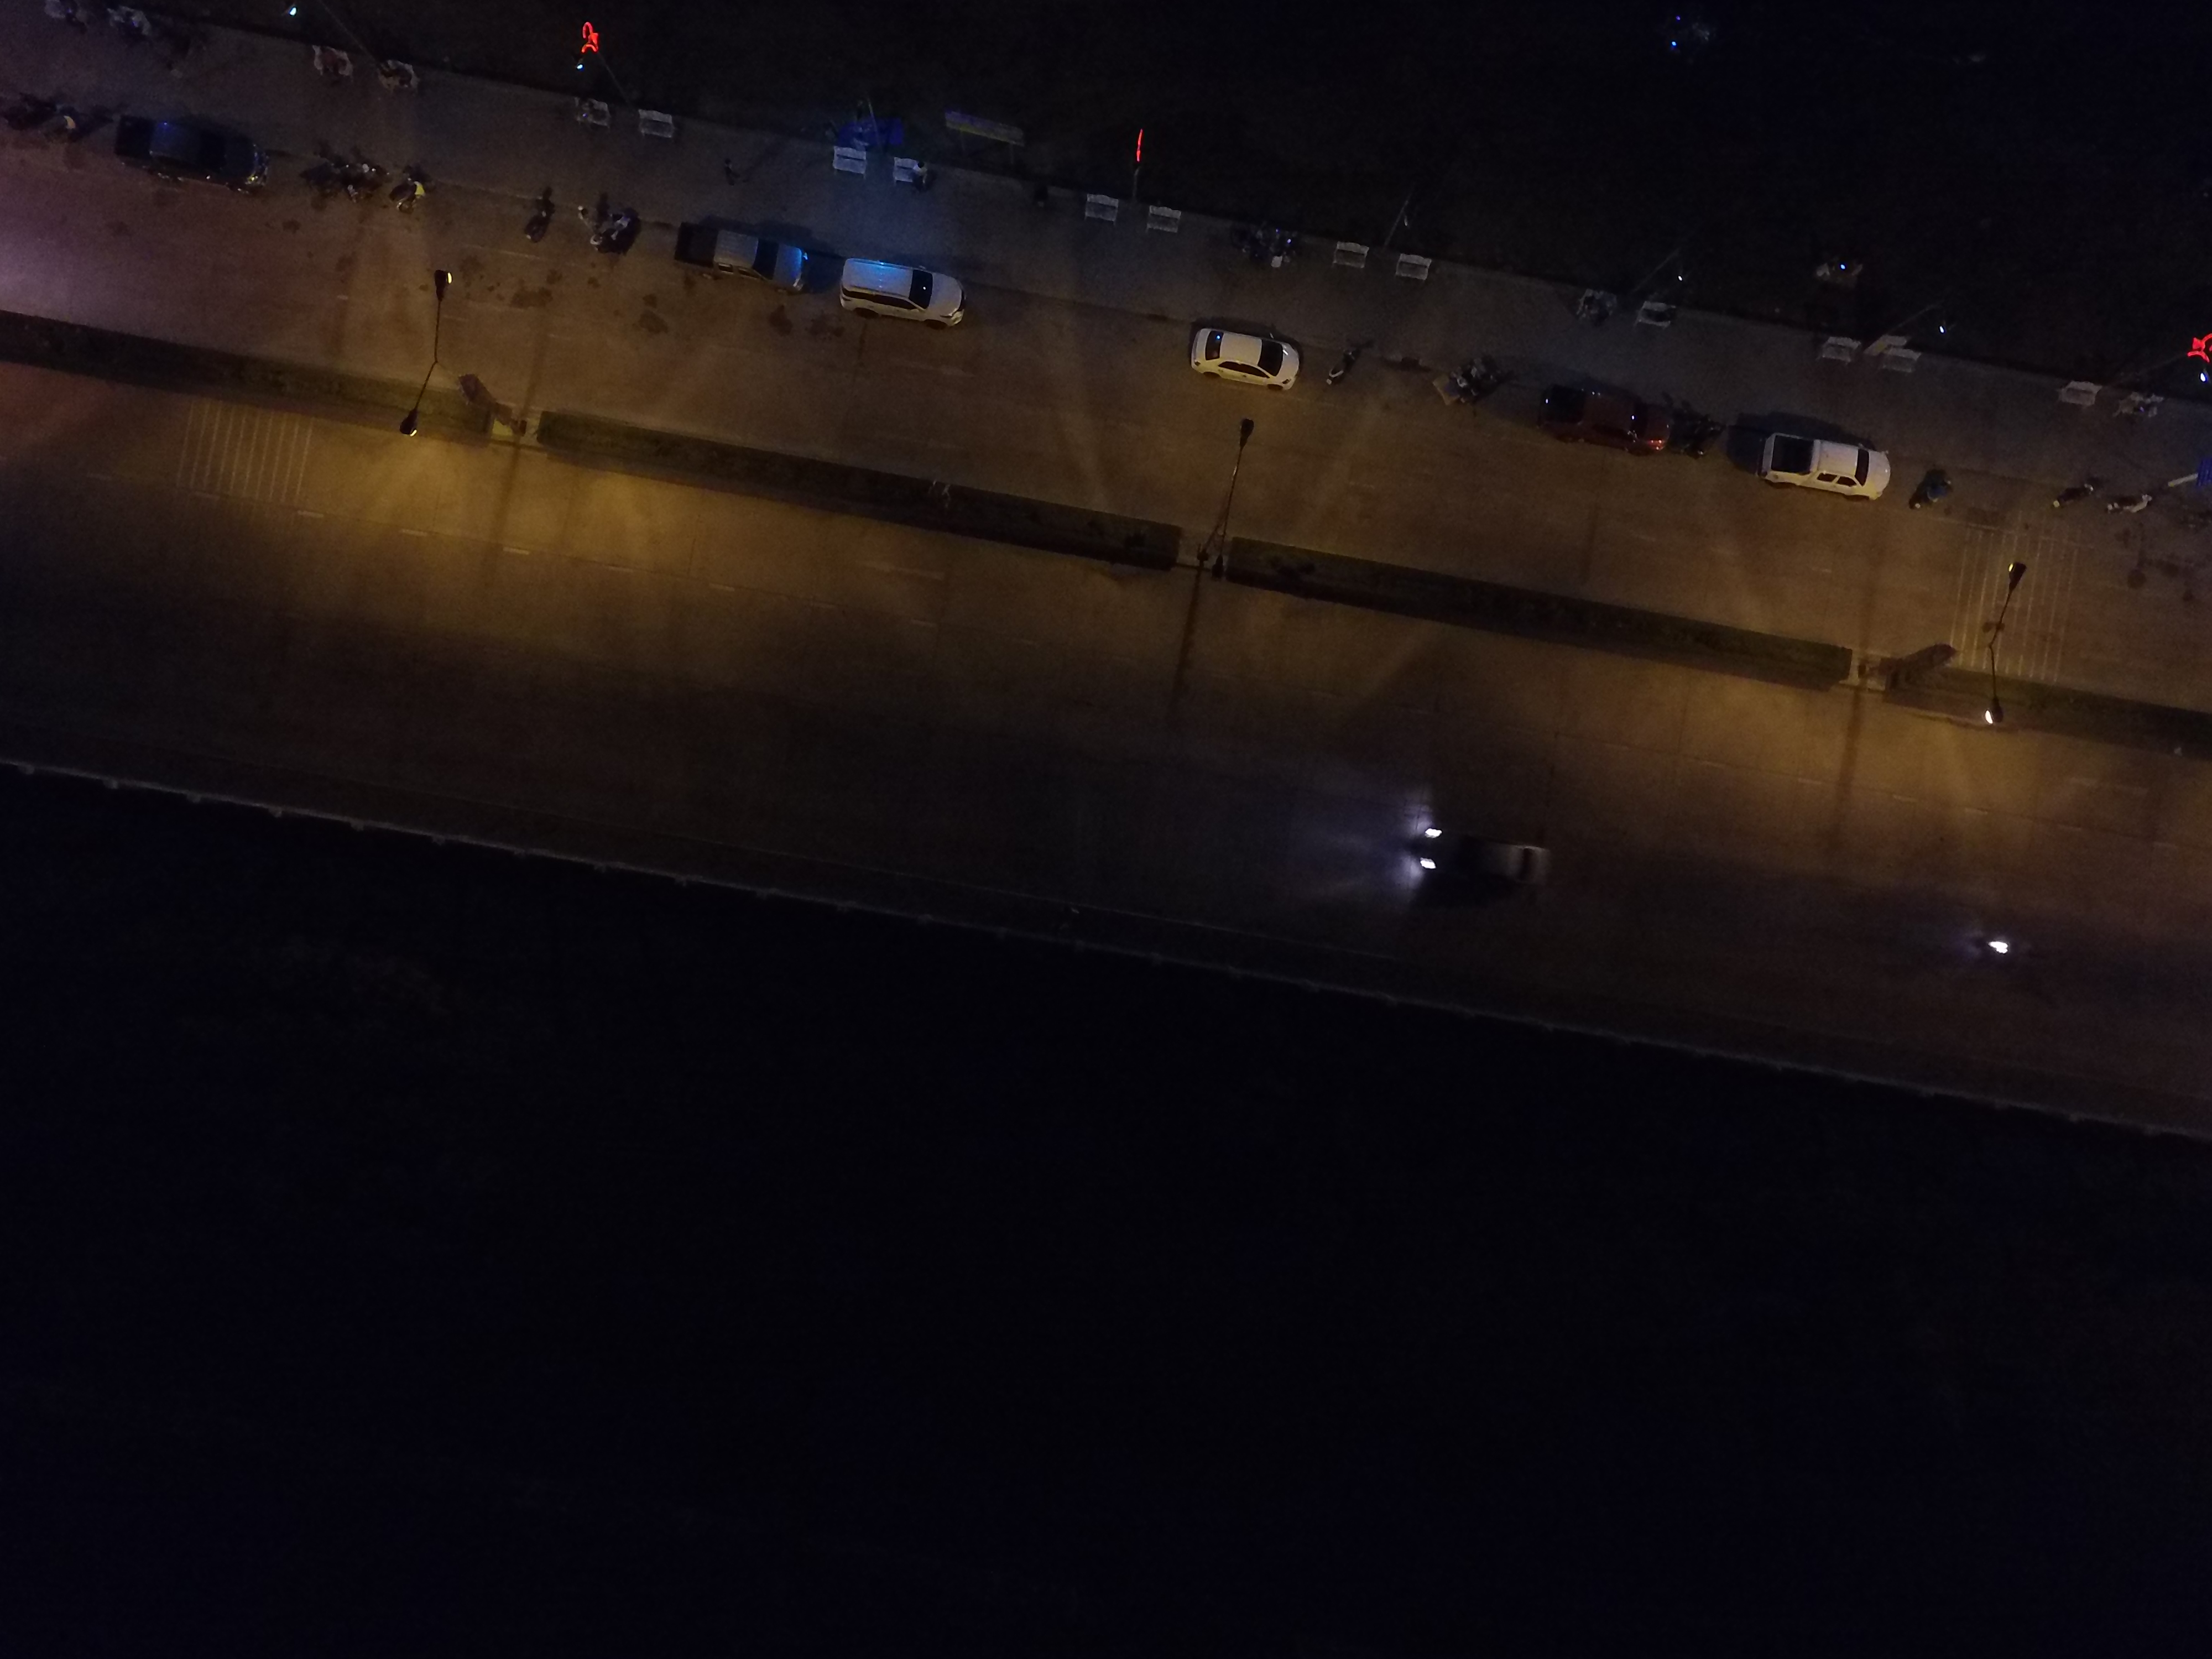car: (1529, 385, 1693, 477), (1397, 816, 1561, 908), (658, 225, 820, 295), (813, 253, 975, 322), (1157, 324, 1318, 394), (1752, 430, 1914, 500)
